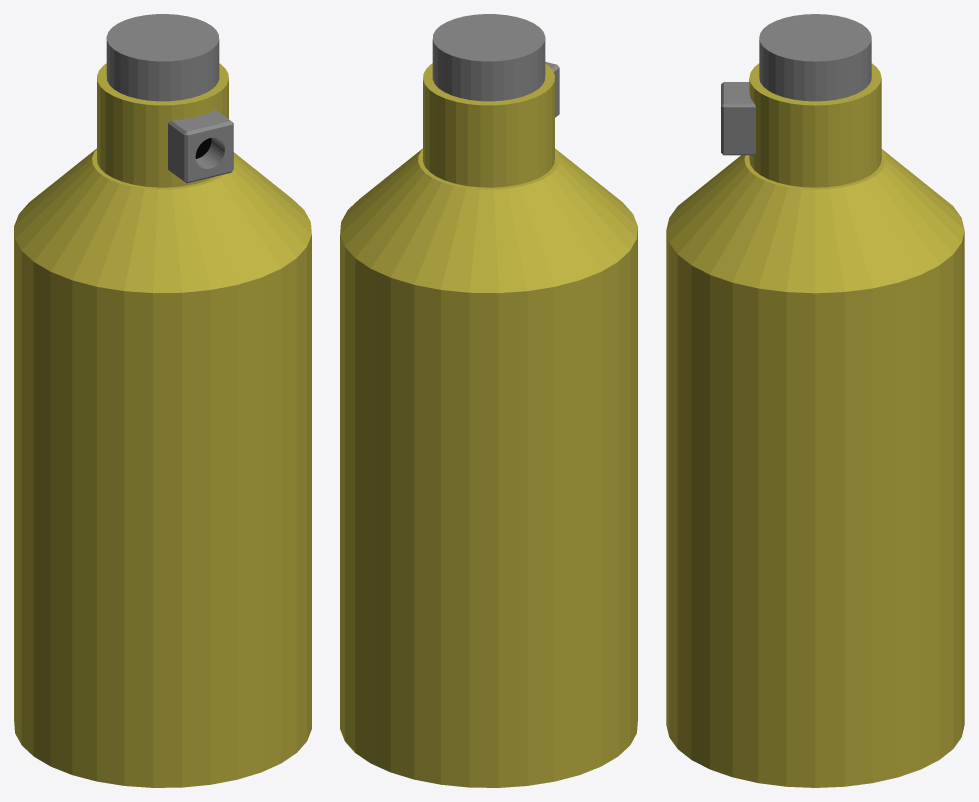
File: Desinfectant.fbx
3 renders of one model, left to right at view 1: azimuth 30°, elevation 25°; view 2: azimuth 150°, elevation 25°; view 3: azimuth 270°, elevation 25°, orthographic.
Parts seen in each view (by area): view 1: desinfectant; view 2: desinfectant; view 3: desinfectant.
Part boxes in pixels (<box>): desinfectant: <box>14,14,311,787</box>; desinfectant: <box>340,14,637,787</box>; desinfectant: <box>666,14,964,787</box>.
Bounding box in the file's own units: 2 × 2 × 5.08.
